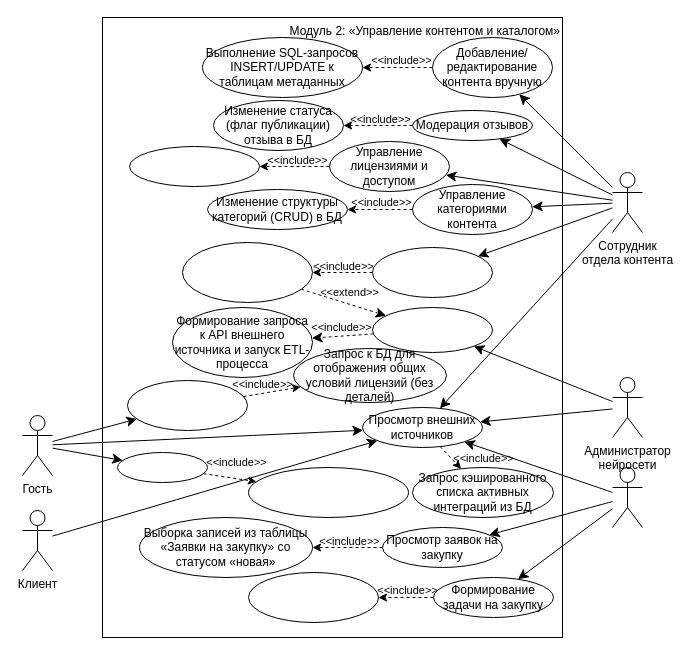
This 695x655 diagram has some shape labels left out. The shapes that lost their labels are listed below. From the top down, each one's centre as x and y in pixels, then its label:
At point 194,166: "Привязка ID лицензии к ID контента в БД".
At point 247,272: "Запуск ETL-процесса для нормализации и сохранения данных".
At point 432,272: "Импорт метаданных из внешнего источника".
At point 432,329: "Запуск поиска во внешних источниках".
At point 187,405: "Просмотр публичной информации о лицензиях".
At point 162,467: "Подписка на новости".
At point 328,492: "Добавление email или другой контактной информации в рассылку".
At point 627,497: "Начальник отдела".
At point 313,597: "Создание записи в БД в таблице «Заявки на закупку»".
